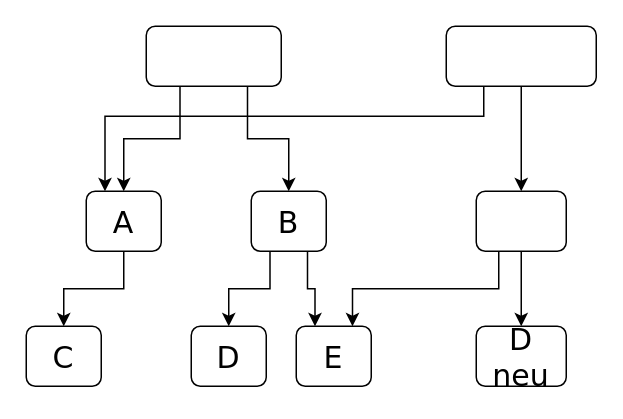
This 623x419 diagram has some shape labels left out. The centre of each missing label's shape, as x and y in pixels:
B neu: the point at 520,220
root: the point at 213,55
root neu: the point at 520,55
